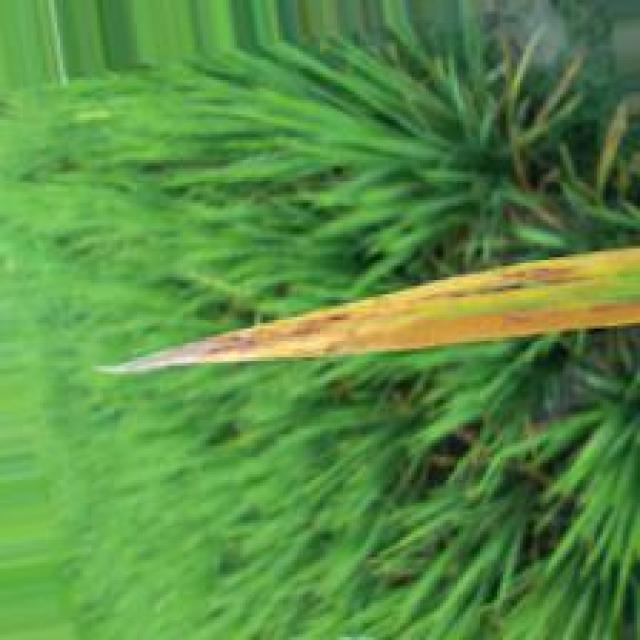Bacterial_Leaf_Blight: (97, 241, 640, 372)
